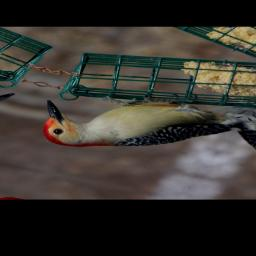Woodpecker: (19, 73, 252, 173)
